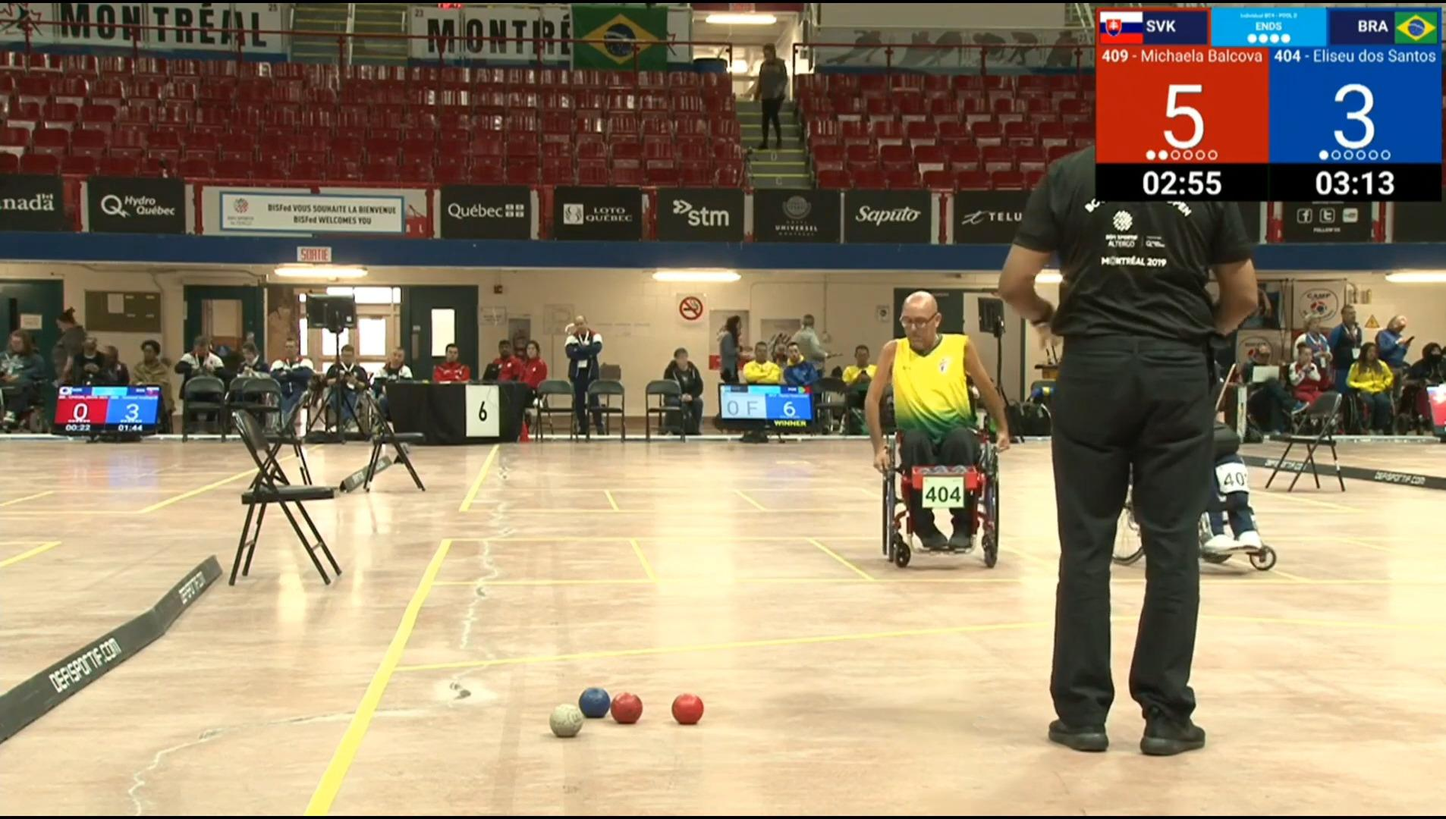blue_ball: (578, 685, 611, 719)
red_ball: (672, 692, 704, 727), (613, 692, 643, 729)
white_ball: (552, 701, 583, 740)
